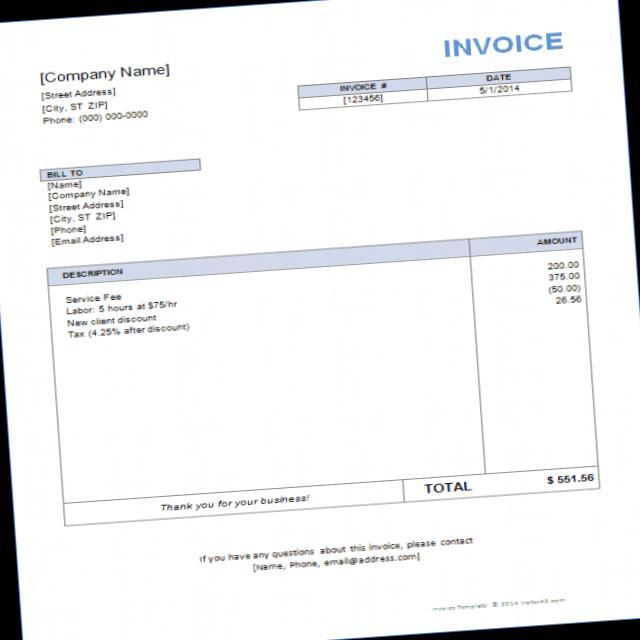customer_address: (45, 200, 127, 225)
customer_name: (45, 179, 134, 202)
invoice_date: (478, 84, 522, 96)
invoice_number: (343, 93, 383, 105)
invoice_total: (542, 472, 598, 489)
item_description: (61, 291, 198, 345)
item_total_price: (541, 258, 585, 312)
supplier_address: (40, 87, 119, 114)
supplier_name: (34, 62, 176, 86)
